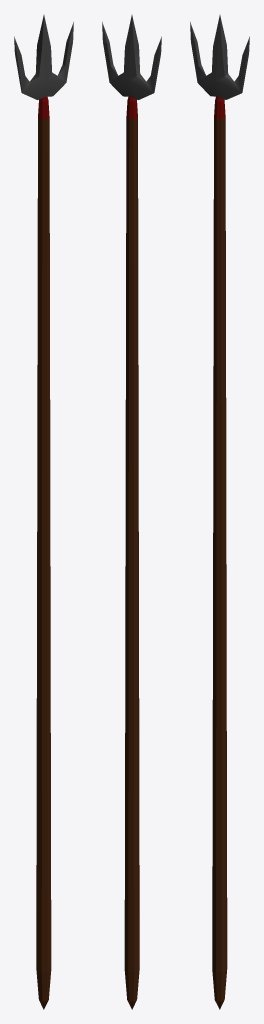
Rendered from trident.obj.
3 views of the same model, side by side, from view 1: azimuth 30°, elevation 25°; view 2: azimuth 150°, elevation 25°; view 3: azimuth 330°, elevation 25° (orthographic).
Parts seen in each view (by area): view 1: Spear_Cube; view 2: Spear_Cube; view 3: Spear_Cube.
Boxes of the visible parts, x1,y1,x2,y2 form: Spear_Cube: (14, 15, 73, 1009); Spear_Cube: (102, 15, 161, 1009); Spear_Cube: (190, 15, 249, 1009).
Bounding box in the file's own units: 0.2458 × 3.91 × 0.0553.
